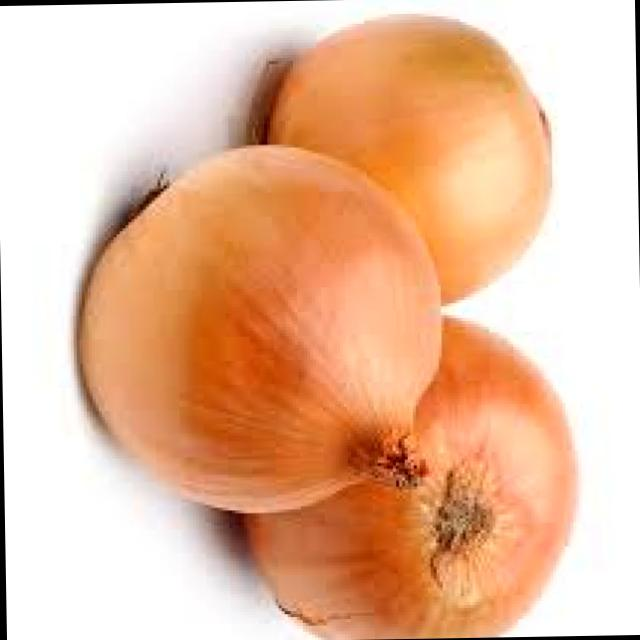Onion: (65, 138, 455, 518), (226, 303, 585, 640), (261, 14, 578, 321)
